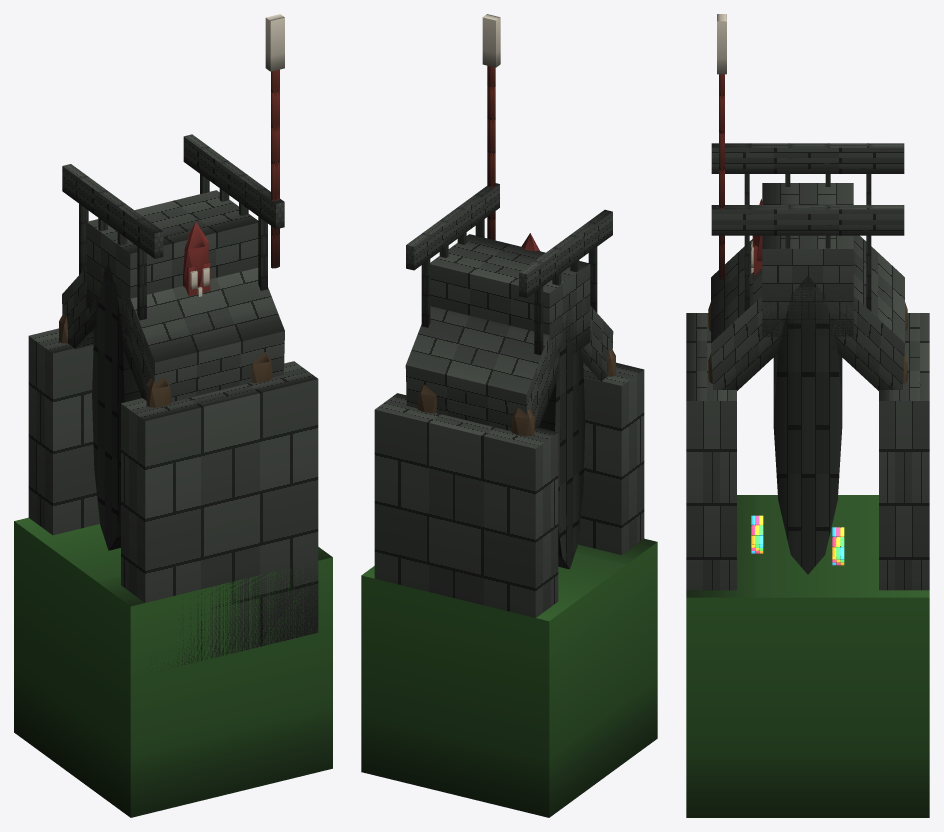
Rendered from canal_bridge.gltf.
3 views of the same model, side by side, from view 1: azimuth 30°, elevation 25°; view 2: azimuth 150°, elevation 25°; view 3: azimuth 270°, elevation 25° (orthographic). The views are drawn at different scales.
Parts seen in each view (by area): view 1: canal_bridge; view 2: canal_bridge; view 3: canal_bridge.
Boxes of the visible parts, bbox=[...] form: canal_bridge: bbox=[14, 14, 332, 817]; canal_bridge: bbox=[361, 14, 657, 817]; canal_bridge: bbox=[686, 14, 929, 817].
Bounding box in the file's own units: 1 × 3.54 × 1.
Materials: 1 (1 with a texture image).
